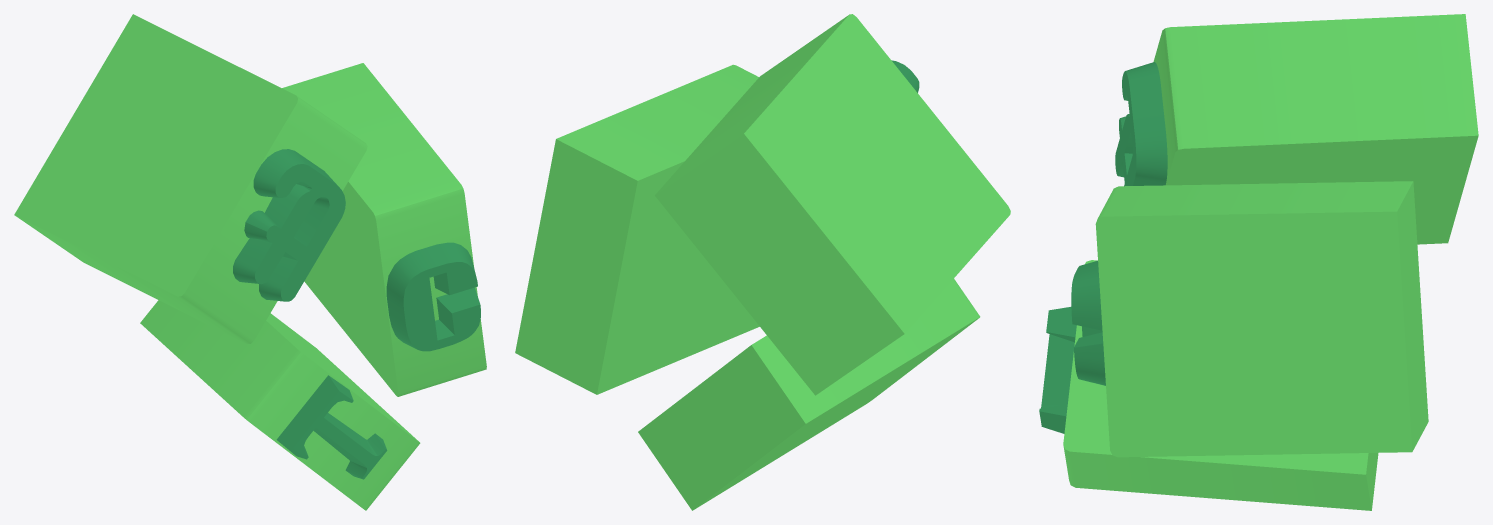
The model's file is stories_02.glb.
The picture shows the model from 3 angles, left to right: view 1: azimuth 30°, elevation 25°; view 2: azimuth 150°, elevation 25°; view 3: azimuth 270°, elevation 25°; orthographic projection. The views are drawn at different scales.
Parts seen in each view (by area): view 1: Cube.003, Cube.002, Cube.001, act, cat, tac; view 2: Cube.003, Cube.002, Cube.001; view 3: Cube.002, Cube.003, Cube.001, act, cat, tac.
Part boxes in pixels (x1,y1,x2,y2): Cube.003: (14, 14, 367, 343); Cube.002: (282, 63, 486, 396); Cube.001: (140, 300, 420, 510); act: (233, 149, 345, 301); cat: (386, 242, 480, 351); tac: (276, 375, 387, 479); Cube.003: (655, 14, 1010, 395); Cube.002: (515, 64, 759, 394); Cube.001: (638, 279, 980, 510); Cube.002: (1095, 181, 1428, 457); Cube.003: (1153, 14, 1478, 244); Cube.001: (1063, 260, 1378, 510); act: (1115, 62, 1167, 186); cat: (1071, 260, 1105, 385); tac: (1039, 307, 1076, 433).
Size of the model in its own units: 1.15 by 1.2 by 1.05.
